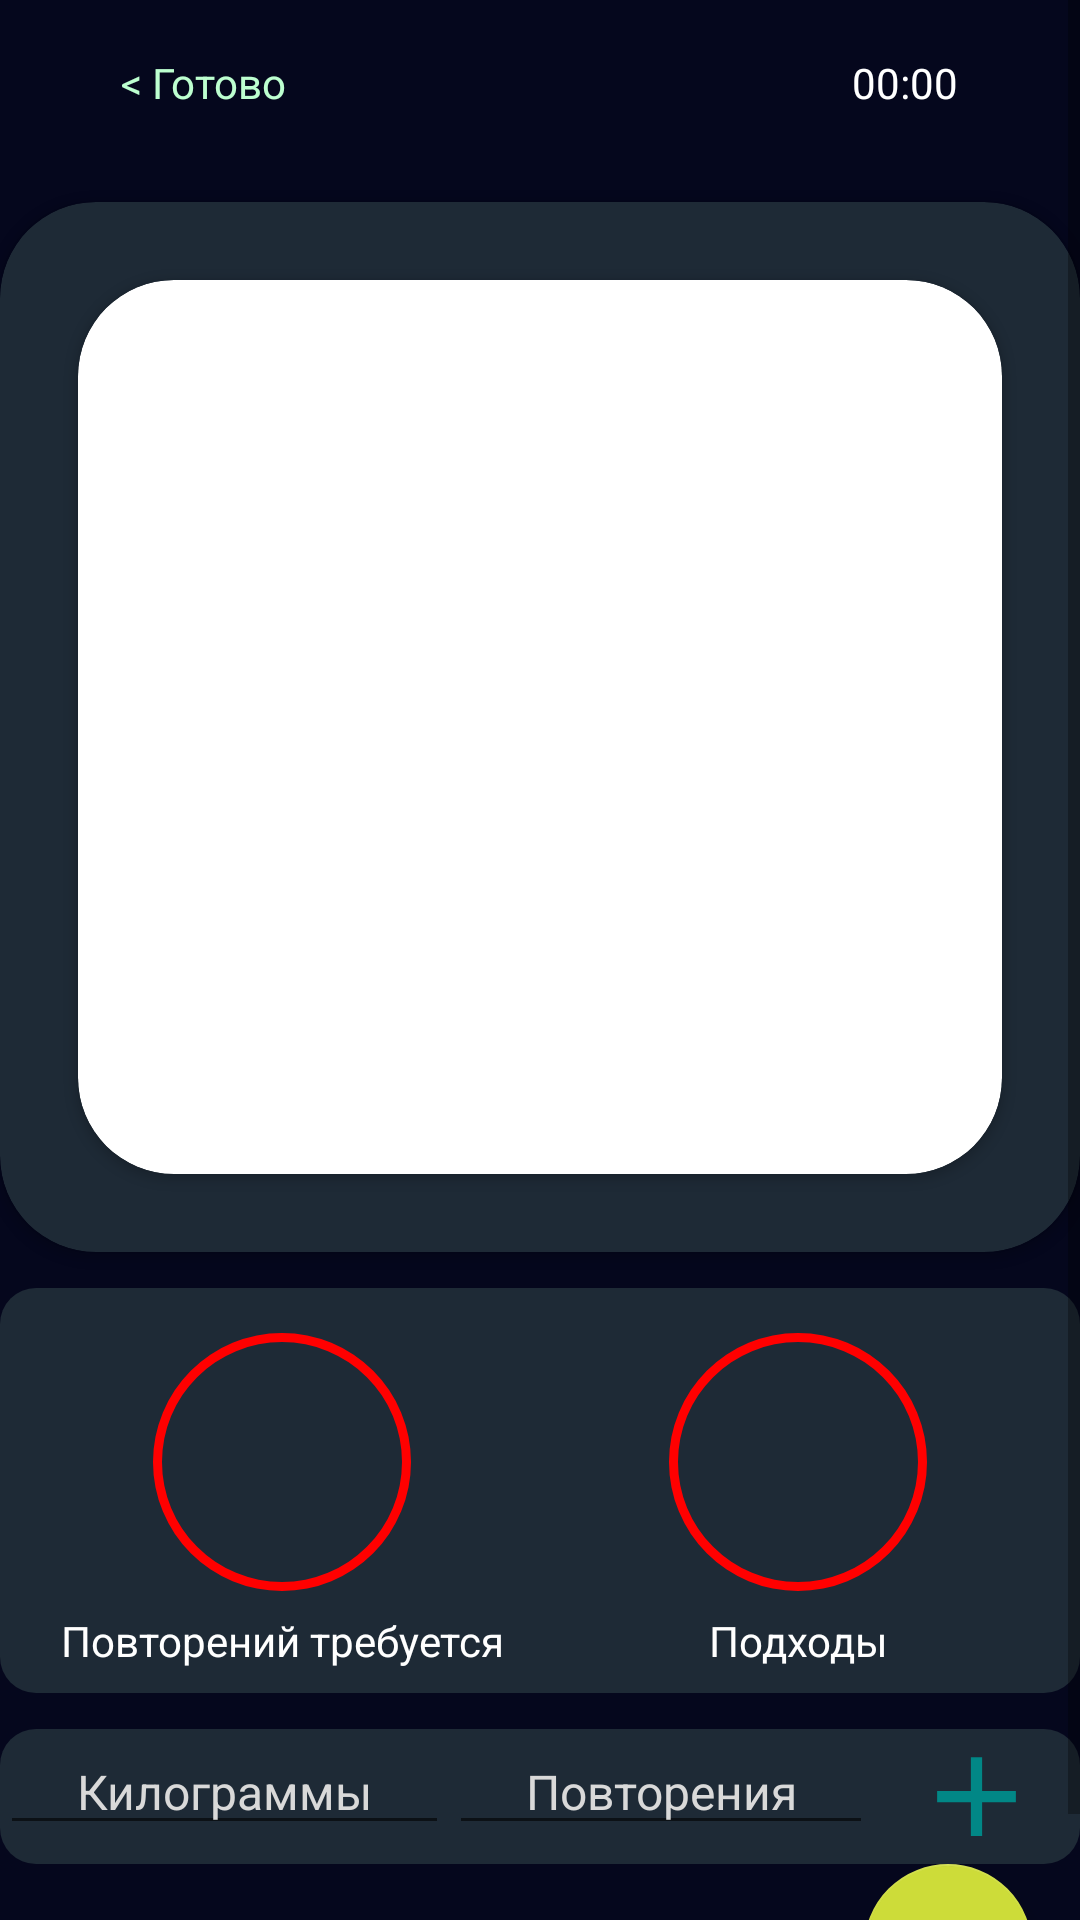

Named icons in this screenshot (1080 × 1920) and their centers, point (x, y):
add new exercise: point (976, 1796)
